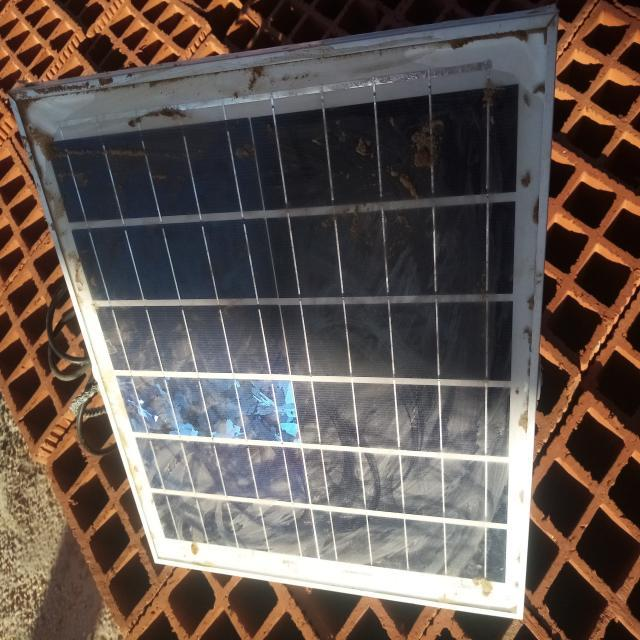faulty: (18, 23, 554, 619)
